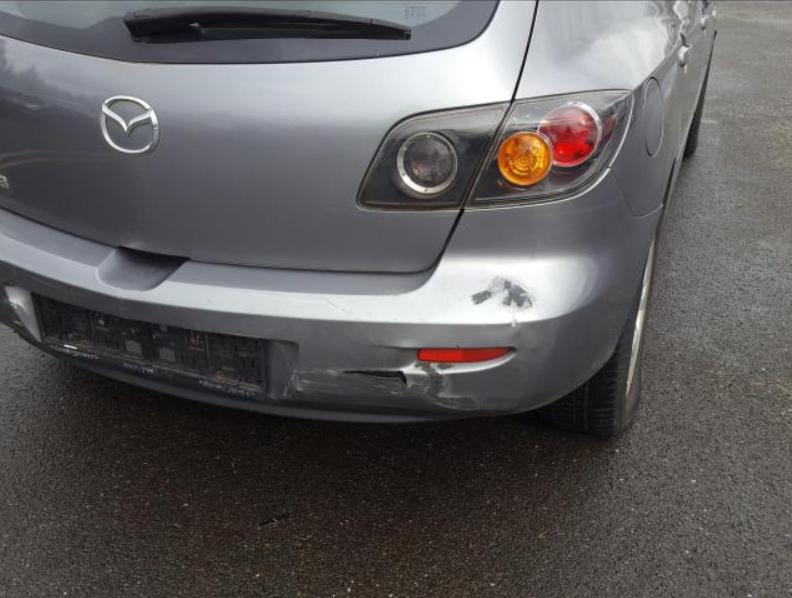Back-bumper: (0, 173, 662, 424)
Back-door: (662, 1, 705, 140)
Back-wheel: (508, 233, 656, 442)
Back-windshield: (0, 0, 498, 65)
Front-door: (693, 1, 714, 74)
License-plate: (30, 293, 267, 401)
Quarter-panel: (509, 0, 683, 215)
Tail-light: (467, 92, 627, 207), (357, 102, 511, 207)
Trunk: (0, 0, 541, 272)
